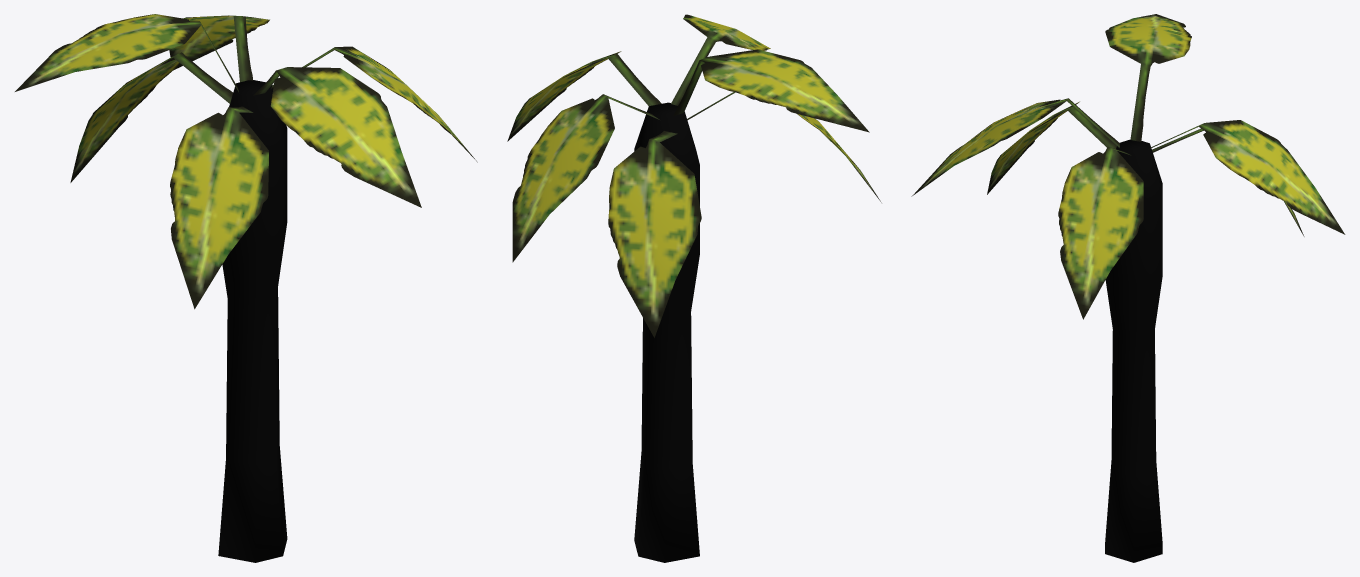
The model's file is tree_01d.fbx.
3 views of the same model, side by side, from view 1: azimuth 30°, elevation 25°; view 2: azimuth 150°, elevation 25°; view 3: azimuth 270°, elevation 25° (orthographic). The views are drawn at different scales.
Visible parts, largest first — view 1: tree_01d; view 2: tree_01d; view 3: tree_01d.
Boxes of the visible parts, <box> form: tree_01d: <box>15,14,477,562</box>; tree_01d: <box>507,14,881,562</box>; tree_01d: <box>911,14,1345,562</box>.
Size of the model in its own units: 3.49 by 4.22 by 3.55.
